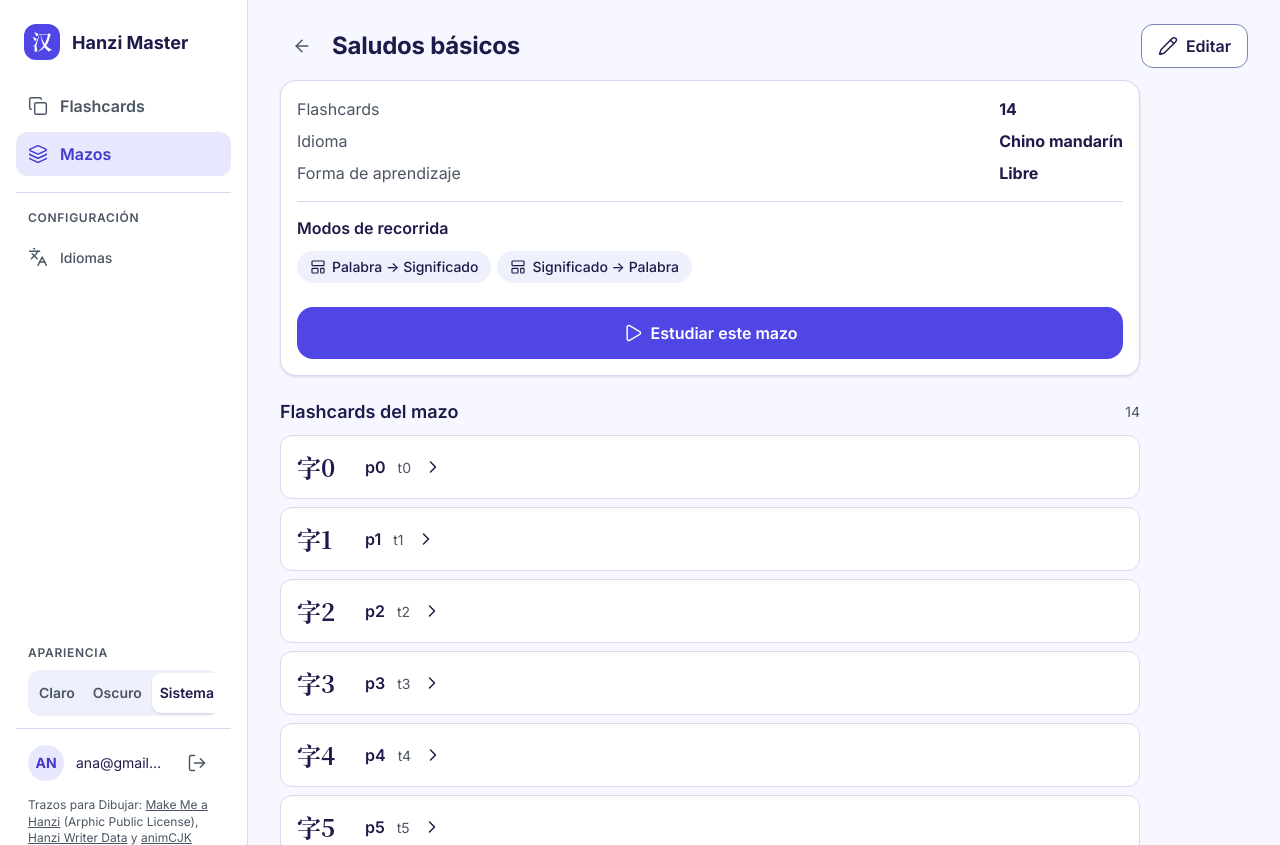
it: M03 · Detalle de mazo › M03-3 Editar abre M02 precargado
Expected: the element named "Resumen del mazo" is shown, left=280, top=80, right=1140, bottom=376
Click the link "Editar" at (1194, 46), box left=1141, top=24, right=1248, bottom=68
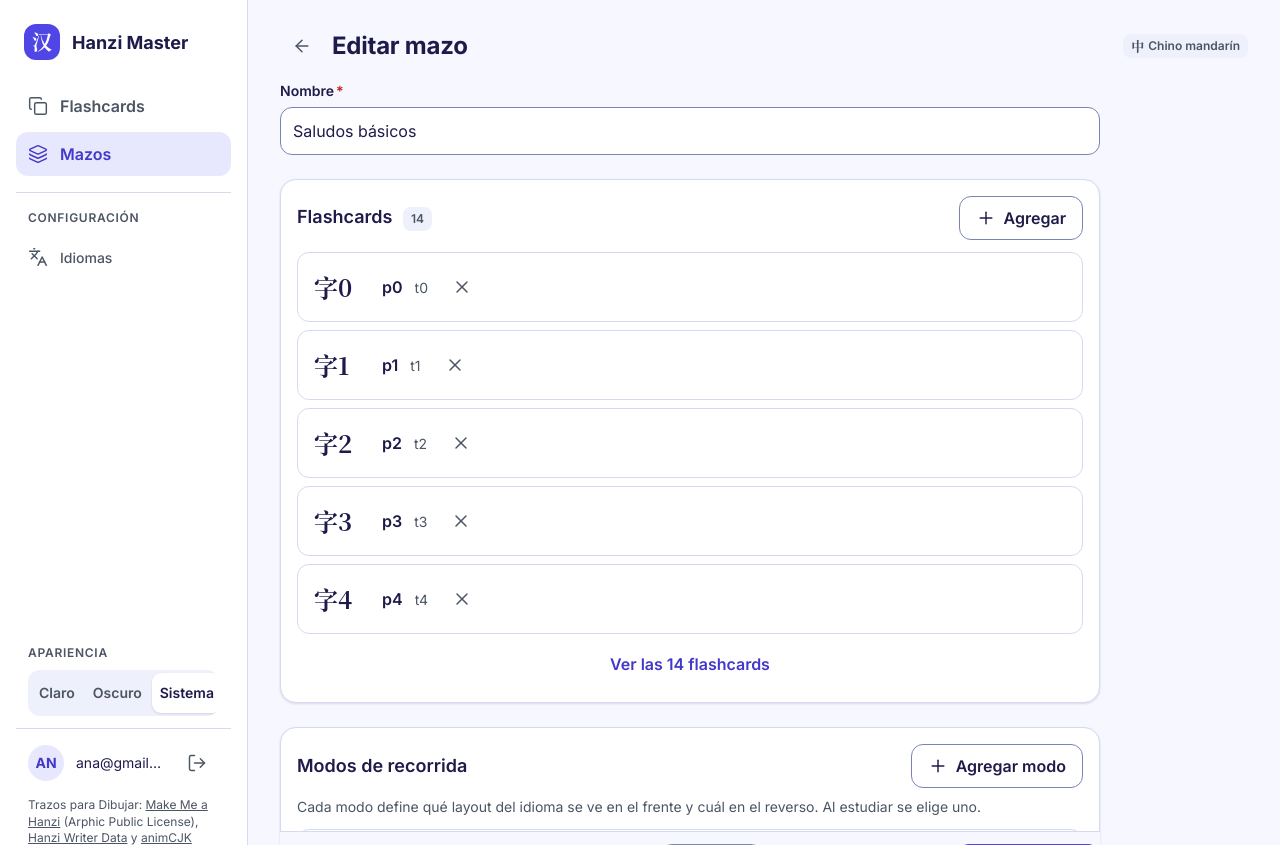
Result: the field labelled "Nombre*" holds "Saludos básicos" at left=280, top=107, right=1100, bottom=155
